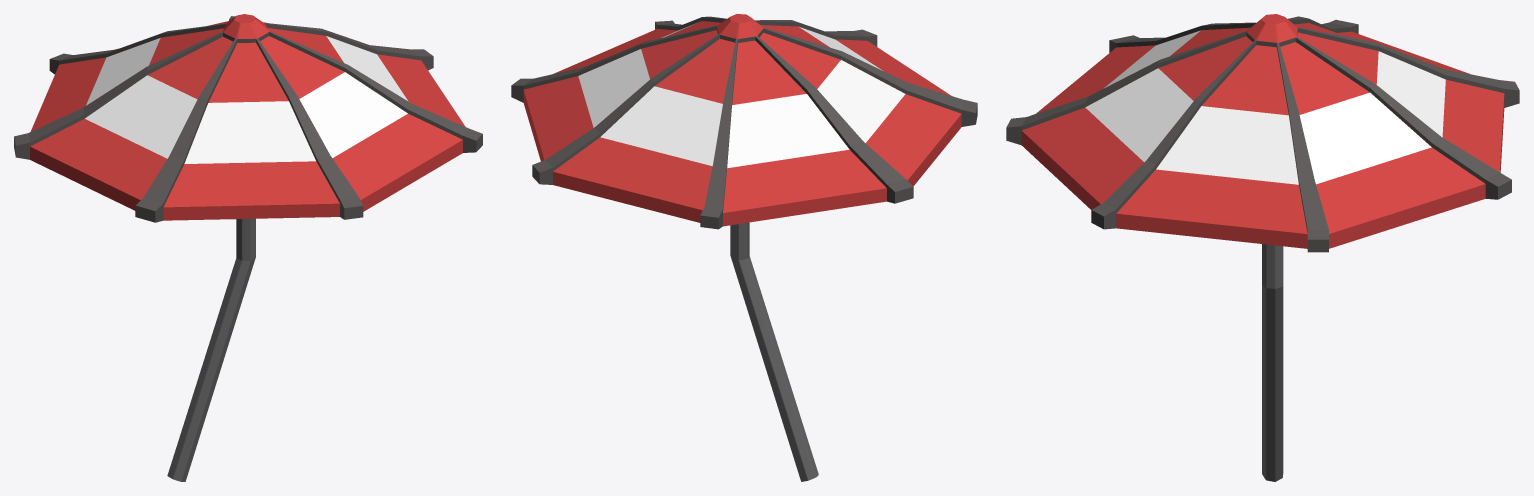
The model's file is Umbrella.fbx.
The picture shows the model from 3 angles, left to right: view 1: azimuth 30°, elevation 25°; view 2: azimuth 150°, elevation 25°; view 3: azimuth 270°, elevation 25°; orthographic projection. The views are drawn at different scales.
Parts seen in each view (by area): view 1: M_Umbrella; view 2: M_Umbrella; view 3: M_Umbrella.
Boxes of the visible parts, x1=… form: M_Umbrella: x1=14, y1=14, x2=482, y2=481; M_Umbrella: x1=511, y1=14, x2=977, y2=481; M_Umbrella: x1=1006, y1=14, x2=1519, y2=481.
Size of the model in its own units: 0.5909 by 0.6215 by 0.5833.
Materials: 1 (1 with a texture image).
